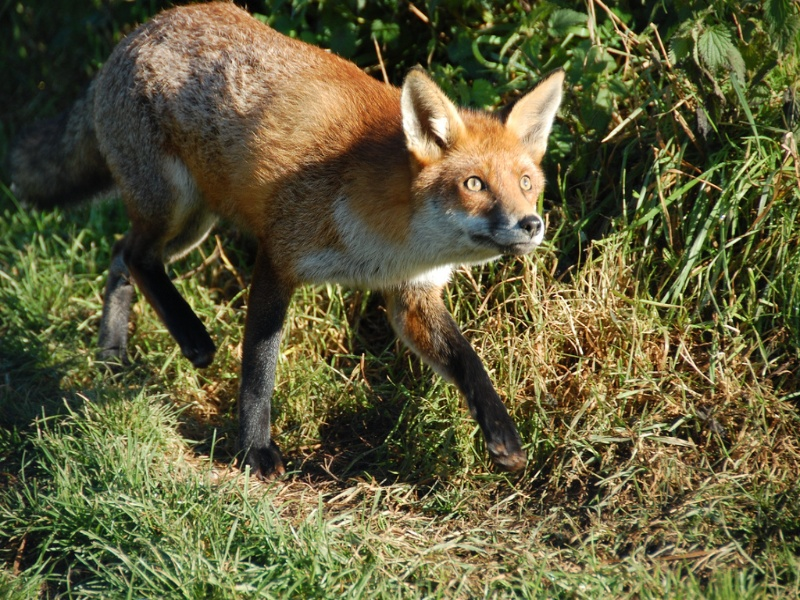fox: (28, 1, 567, 490)
